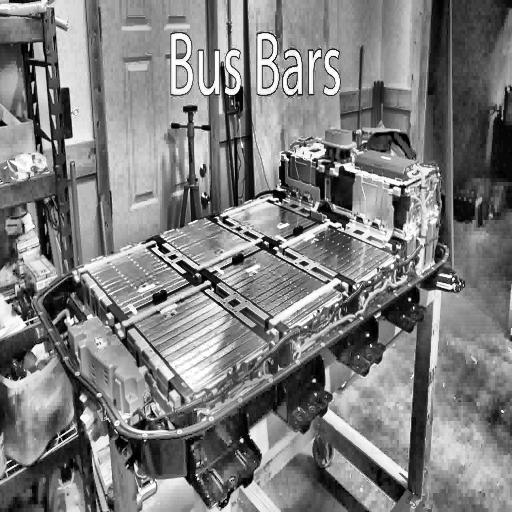bms_unit: (355, 145, 422, 183)
busbar: (115, 278, 215, 340), (266, 276, 349, 341), (72, 237, 160, 282), (280, 150, 331, 223), (193, 236, 270, 281), (273, 220, 342, 255), (138, 365, 182, 414), (214, 195, 282, 223), (382, 187, 402, 252), (316, 156, 342, 179)
connector: (320, 127, 357, 165)
